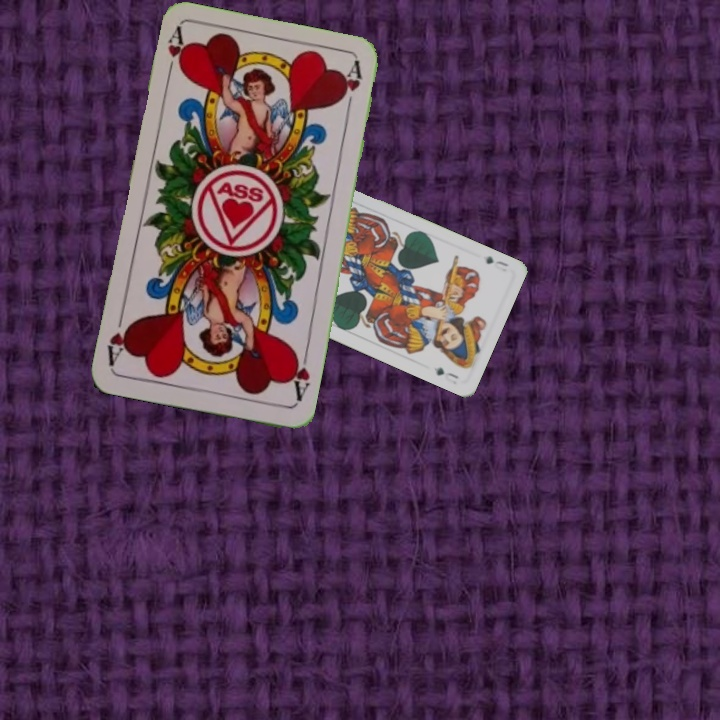GU: (482, 252, 512, 274)
HA: (285, 345, 313, 404), (163, 25, 190, 84)
